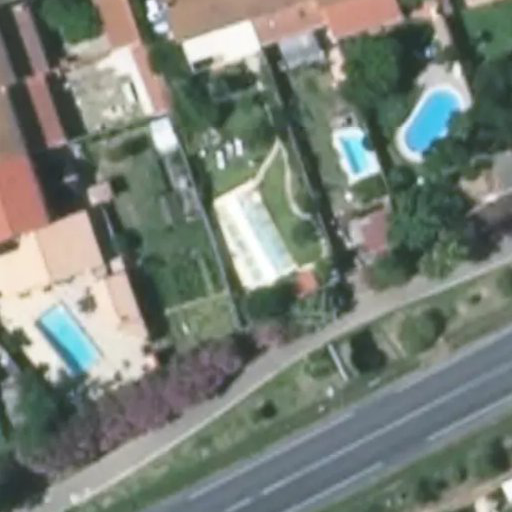pool: (225, 218, 287, 264)
